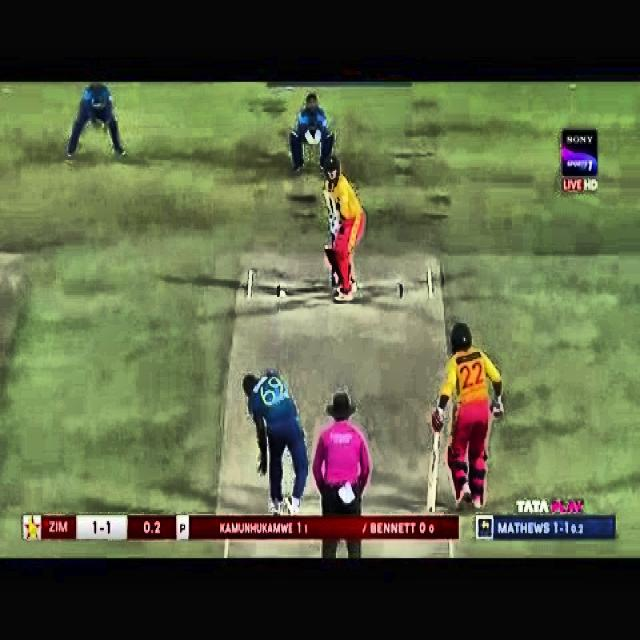Left-stump: (332, 266, 335, 284)
